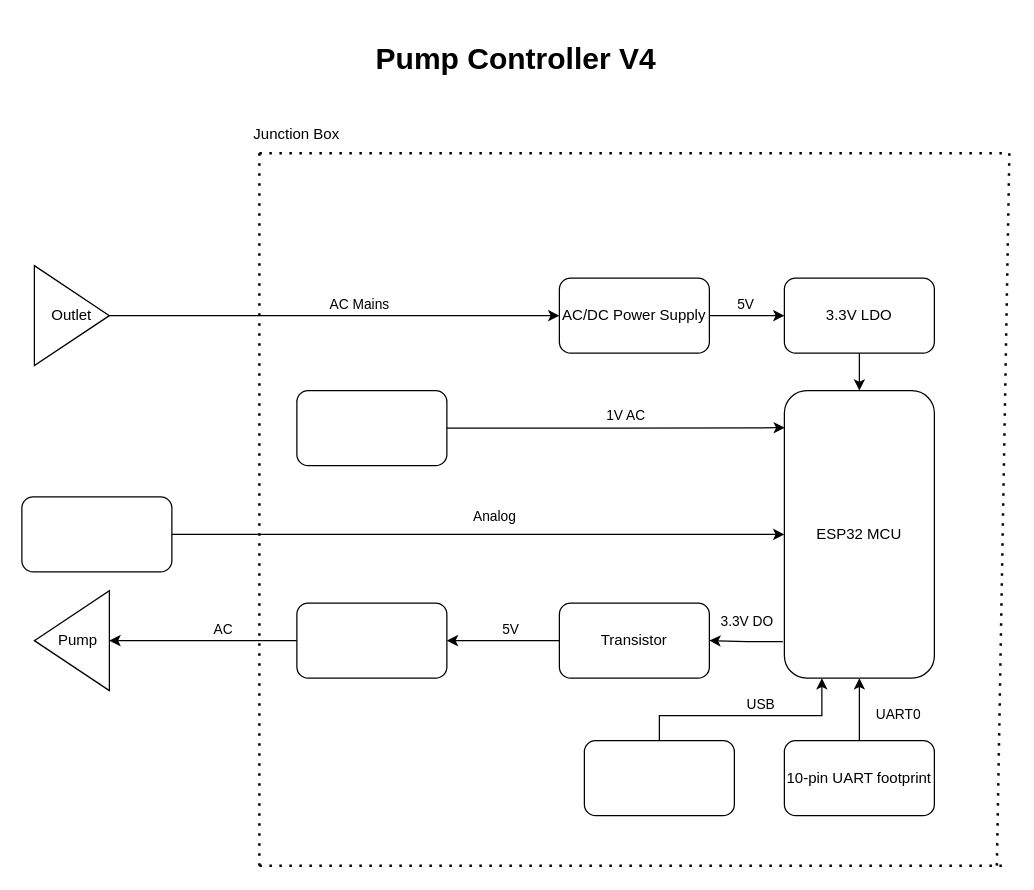
Some shapes in this 1034 by 890 pixel diagram are drawn without their labels. The shapes that lost their labels are listed below. From the top down, each one's centre as x and y in pixels, then its label:
the point at 371,427: Current Sensor
the point at 96,534: Pressure Sensor
the point at 371,640: 1hp spdt relay
the point at 658,777: 4-pin USB debugging footprint
